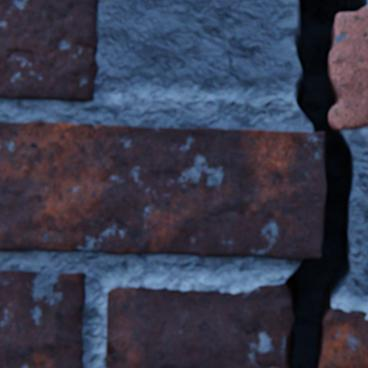brick: (0, 122, 326, 259), (0, 0, 99, 101), (0, 270, 86, 367)
broken_brick: (107, 283, 291, 367), (328, 7, 367, 129), (319, 308, 367, 367)
crack: (283, 0, 367, 367)
